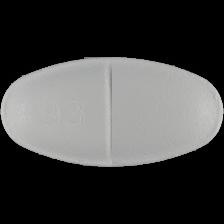54868-2353: (0, 0, 224, 224)
